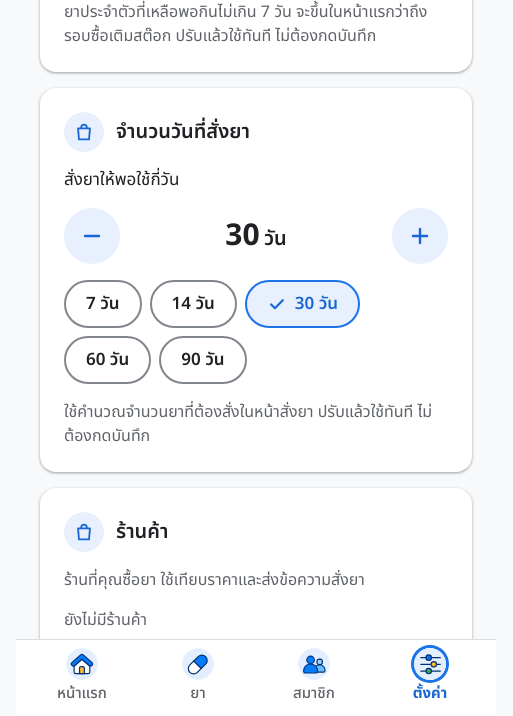
Test: order days (settings.orderDays, 7-90) › a save that fails leaves the number as it was and says why
(page scrolled)
Click the radio button labelled "60 วัน": click(108, 360) [64,336,151,384]
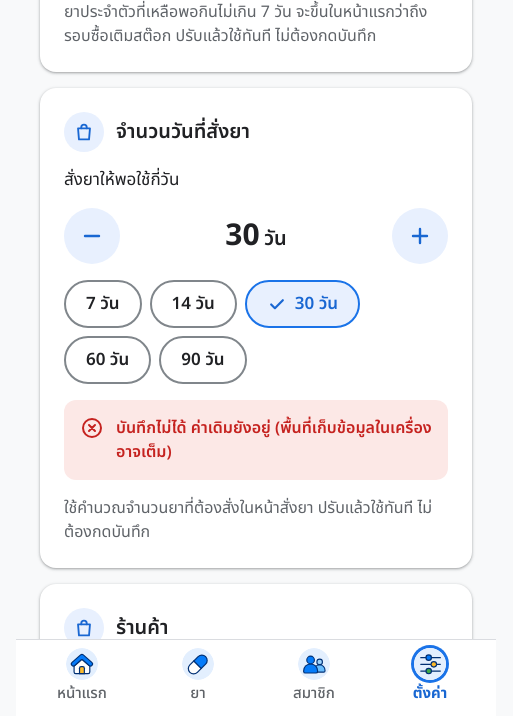
Expected: the text "บันทึกไม่ได้ ค่าเดิมยังอยู่ (พื้นที่เก็บข้อมูลในเครื่องอาจเต็ม)" is shown, [116,416,432,464]
